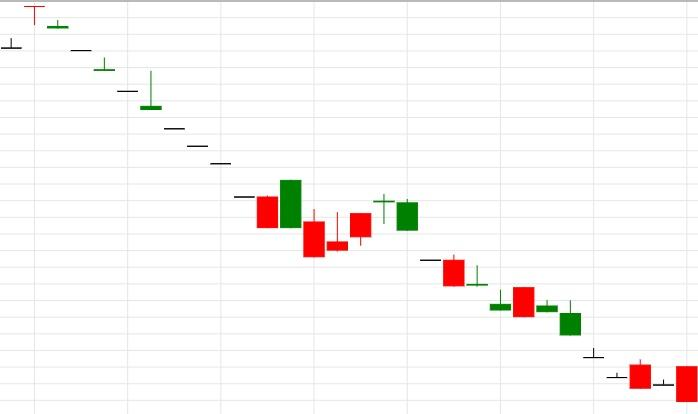bullish_engulfing_rise: (372, 193, 535, 318)
evening_star_fall: (303, 194, 419, 258)
